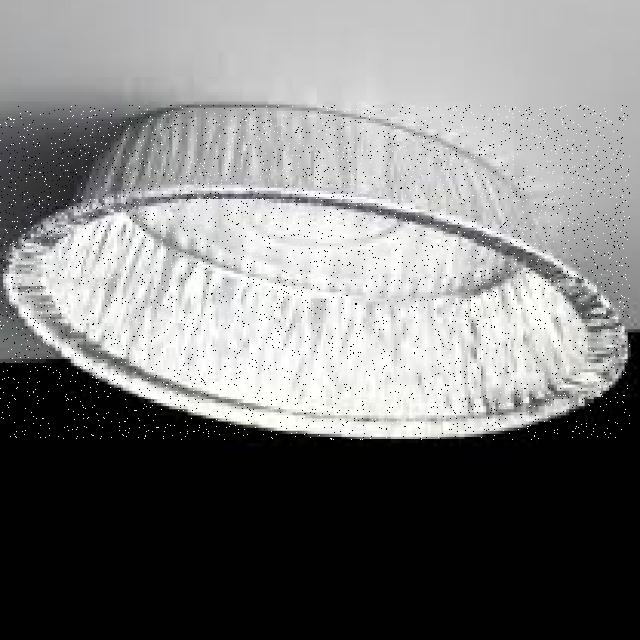metal: (0, 105, 630, 440)
